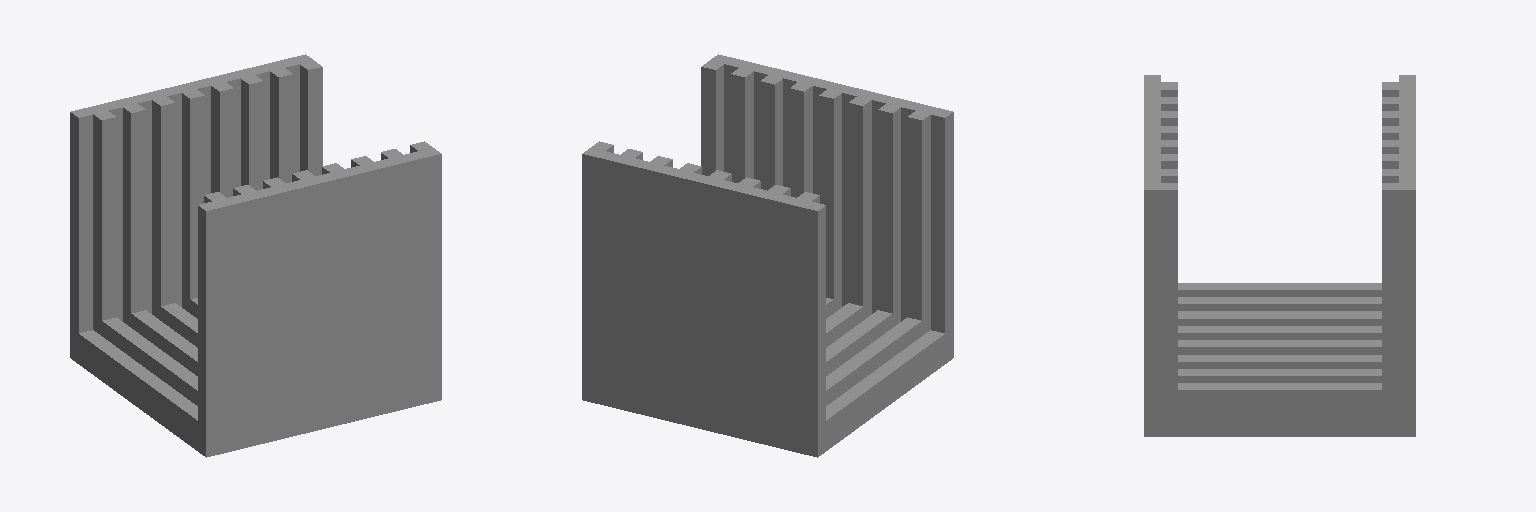
Rendered from magnetizer.obj.
3 renders of one model, left to right at view 1: azimuth 30°, elevation 25°; view 2: azimuth 150°, elevation 25°; view 3: azimuth 270°, elevation 25°, orthographic.
Visible parts, largest first — view 1: Cube.001; view 2: Cube.001; view 3: Cube.001.
Boxes of the visible parts, x1=… form: Cube.001: x1=70, y1=54, x2=441, y2=457; Cube.001: x1=582, y1=54, x2=953, y2=457; Cube.001: x1=1144, y1=75, x2=1415, y2=436.
Size of the model in its own units: 1 by 1 by 1.